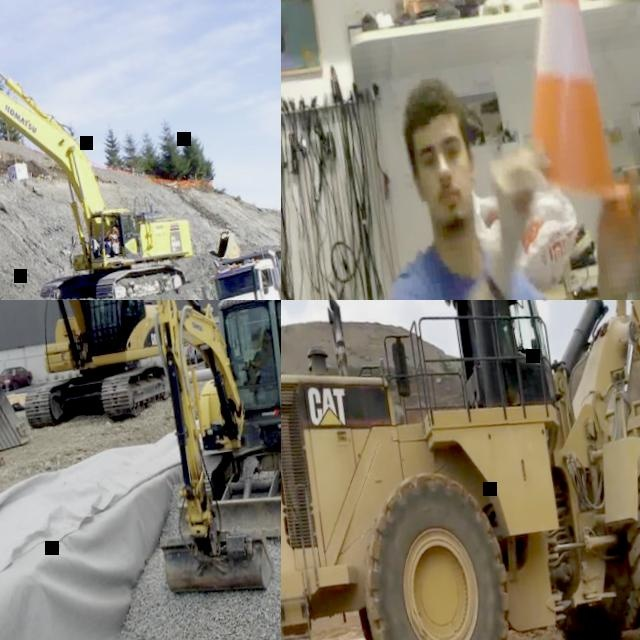NO-Hardhat: (399, 76, 466, 136)
NO-Mask: (426, 179, 477, 233)
NO-Safety Vest: (407, 236, 539, 300)
Person: (357, 47, 640, 300), (246, 325, 281, 384), (102, 221, 124, 257)
Safety Cone: (490, 0, 640, 230)
Safety Vest: (108, 226, 121, 242)
machinery: (281, 300, 640, 640), (0, 17, 202, 300), (116, 300, 281, 606), (0, 300, 184, 460), (185, 238, 281, 300)
vehicle: (0, 362, 35, 392)
